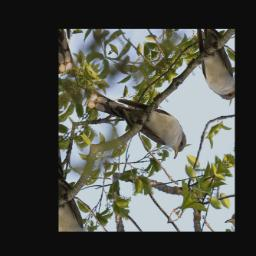Cuckoo: (84, 58, 194, 185)
